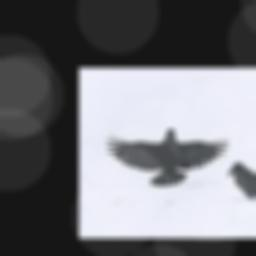Crow: (104, 127, 229, 186), (227, 161, 256, 199)
